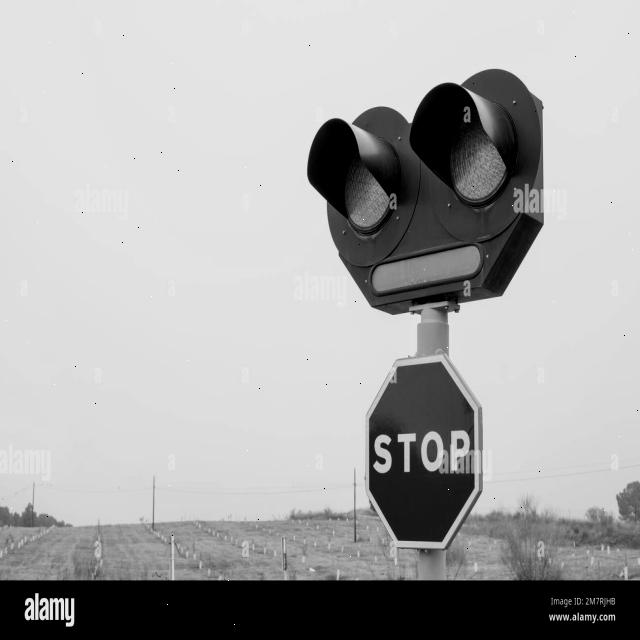Stop-sign: (345, 350, 501, 562)
